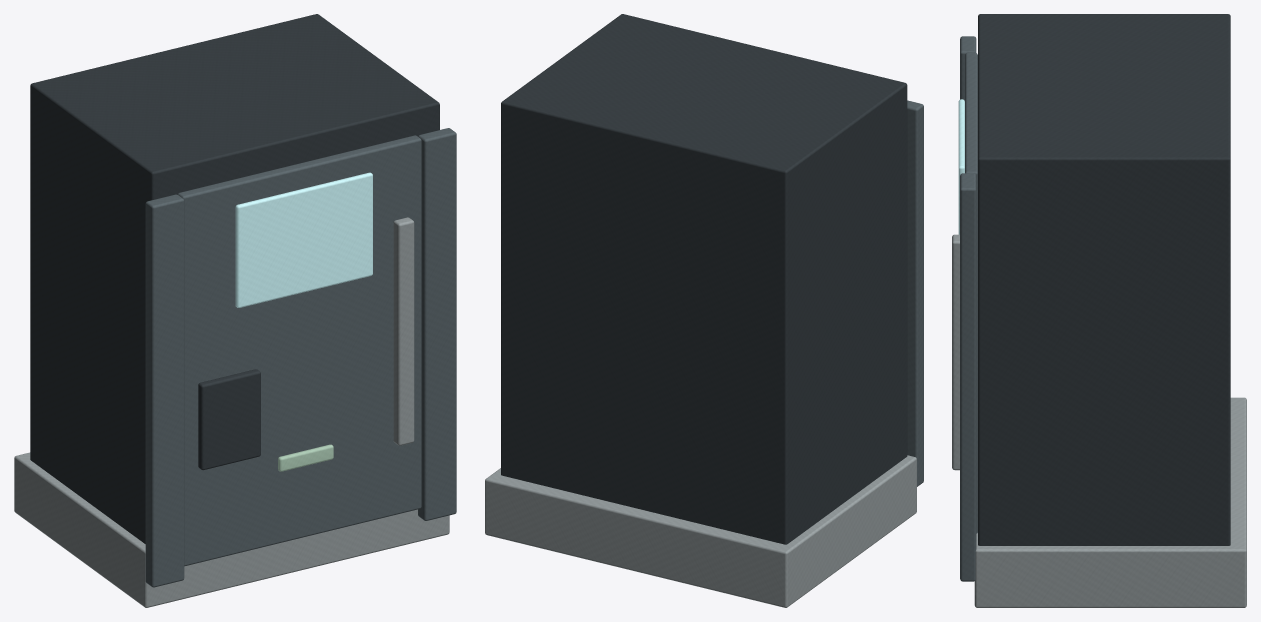
Rendered from SecureEquipmentPod.glb.
3 renders of one model, left to right at view 1: azimuth 30°, elevation 25°; view 2: azimuth 150°, elevation 25°; view 3: azimuth 270°, elevation 25°, orthographic. The views are drawn at different scales.
Visible parts, largest first — view 1: SecureEquipmentPod_Mesh; view 2: SecureEquipmentPod_Mesh; view 3: SecureEquipmentPod_Mesh.
Boxes of the visible parts, x1,y1,x2,y2 form: SecureEquipmentPod_Mesh: (14, 14, 456, 607); SecureEquipmentPod_Mesh: (485, 14, 923, 607); SecureEquipmentPod_Mesh: (952, 14, 1246, 607).
Bounding box in the file's own units: 1.12 × 1.52 × 0.91.
Materials: 5 (5 with a texture image).
